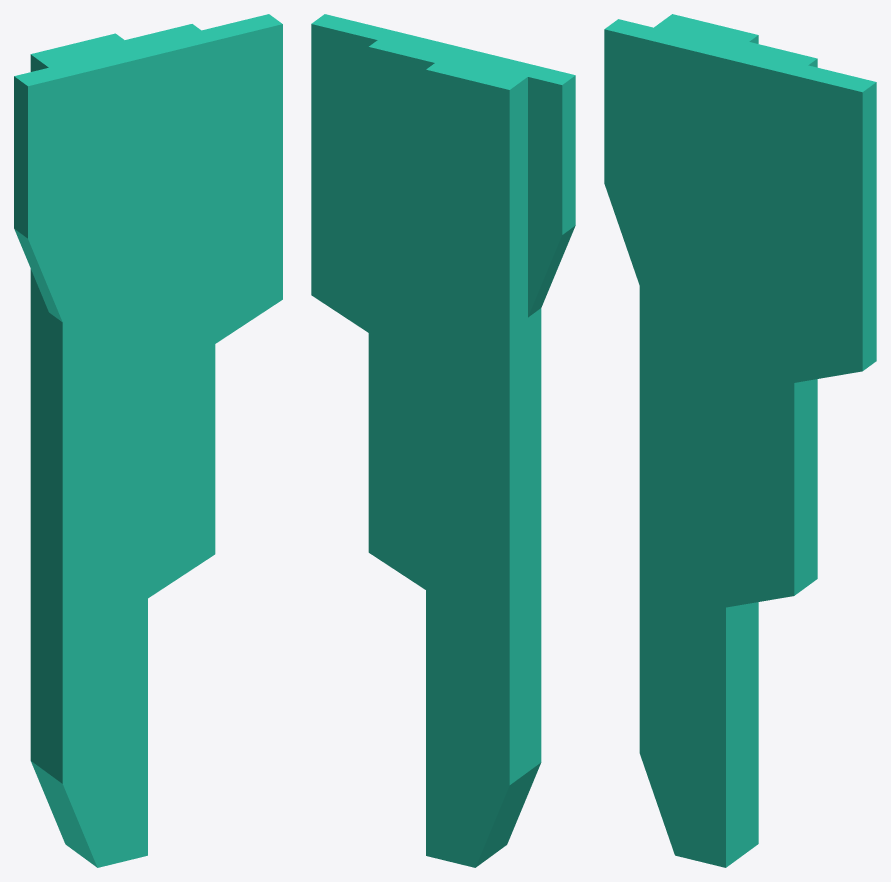
Rendered from d_kenney_mousse_pendante.glb.
3 views of the same model, side by side, from view 1: azimuth 30°, elevation 25°; view 2: azimuth 150°, elevation 25°; view 3: azimuth 330°, elevation 25° (orthographic). The views are drawn at different scales.
Parts seen in each view (by area): view 1: d_kenney_mousse_pendante; view 2: d_kenney_mousse_pendante; view 3: d_kenney_mousse_pendante.
Part boxes in pixels (left/top/right/bottom): d_kenney_mousse_pendante: left=14, top=14, right=282, bottom=867; d_kenney_mousse_pendante: left=311, top=14, right=575, bottom=867; d_kenney_mousse_pendante: left=604, top=14, right=876, bottom=867.
Bounding box in the file's own units: 0.1598 × 0.4785 × 0.035.
1 material, 1 textured.
